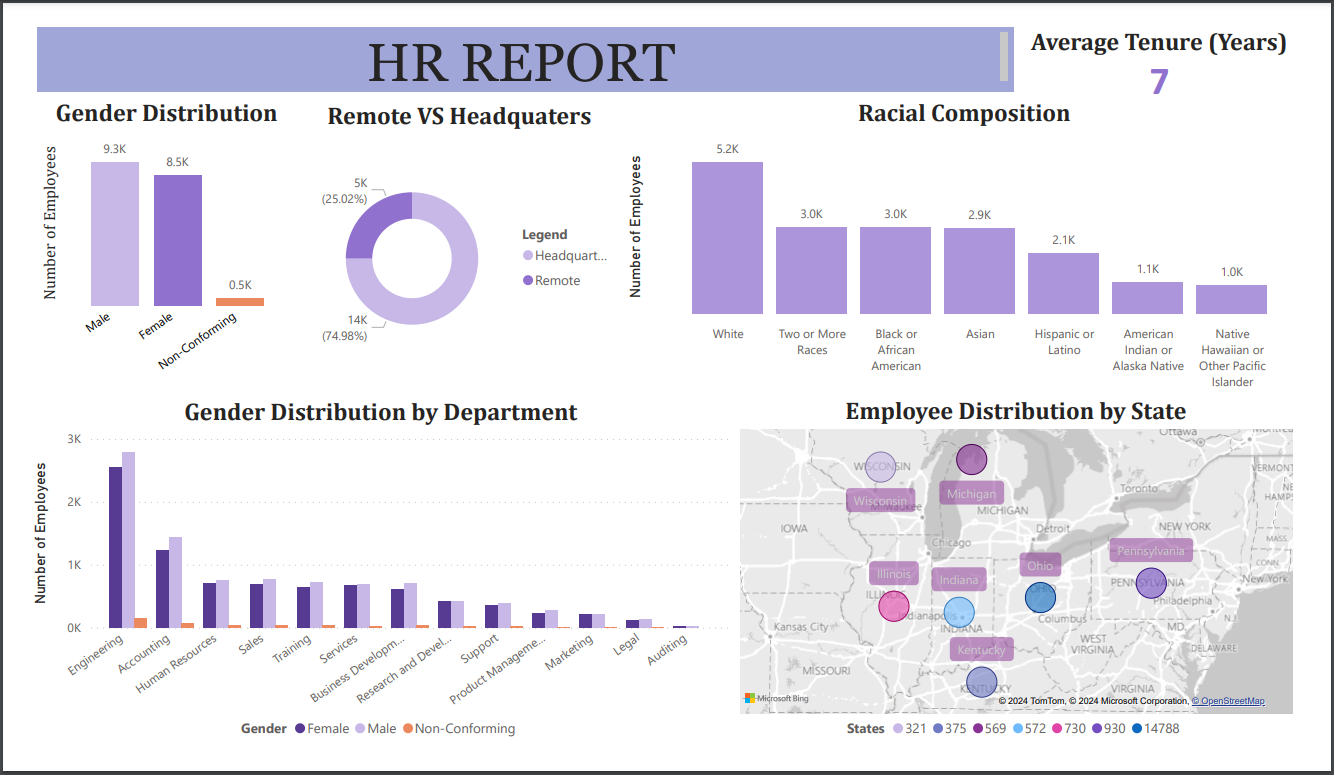

What the dashboard file says about the page in this screenshot:
{"tool":"powerbi","page":{"name":"Page 1","canvas":[1280,720],"ordinal":0},"visuals":[{"type":"textbox","box":[9.9,0,976.1,63.6],"z":0},{"type":"card","title":"Average Tenure (Years)","fields":{"Values":["Sum(average duration of employment within the company.Column1)"]},"box":[995,0,275,74],"z":1},{"type":"clusteredColumnChart","title":"Gender Distribution","fields":{"Category":["distribution of gender with in company.Column1"],"Y":["Sum(distribution of gender with in company.Column2)"]},"box":[9.9,70.7,259.7,290.1],"z":2},{"type":"clusteredColumnChart","title":"Gender Distribution by Department","fields":{"Y":["Sum(gender distribution in departments.Column3)"],"Series":["gender distribution in departments.Column1"],"Category":["gender distribution in departments.Column2"]},"box":[0,370,708,350],"z":3},{"type":"map","title":"Employee Distribution by State","fields":{"Category":["geographic distribution of employees across various states.Column1"],"Series":["geographic distribution of employees across various states.Column2"]},"box":[708,369,562,351],"z":5},{"type":"columnChart","title":"Racial Composition","fields":{"Category":["racial composition within the company.Column1"],"Y":["Sum(racial composition within the company.Column2)"]},"box":[595,71,685,299],"z":6},{"type":"donutChart","title":"Remote VS Headquaters","fields":{"Category":["How many employees in each department work remotely.Column1"],"Y":["Sum(How many employees in each department work remotely.Column2)"]},"box":[270,74,325,287],"z":7}]}

Visuals, with their boxes on the page's 1280x720 design canvas (x1, y1, x2, y2). These are canvas units, not pixel positions in the 1334x775 screenshot, which may show the page scaled, cropped or inside an application window:
textbox: <bbox>10, 0, 986, 64</bbox>
"Average Tenure (Years)" card: <bbox>995, 0, 1270, 74</bbox>
"Gender Distribution" clusteredColumnChart: <bbox>10, 71, 270, 361</bbox>
"Gender Distribution by Department" clusteredColumnChart: <bbox>0, 370, 708, 720</bbox>
"Employee Distribution by State" map: <bbox>708, 369, 1270, 720</bbox>
"Racial Composition" columnChart: <bbox>595, 71, 1280, 370</bbox>
"Remote VS Headquaters" donutChart: <bbox>270, 74, 595, 361</bbox>
